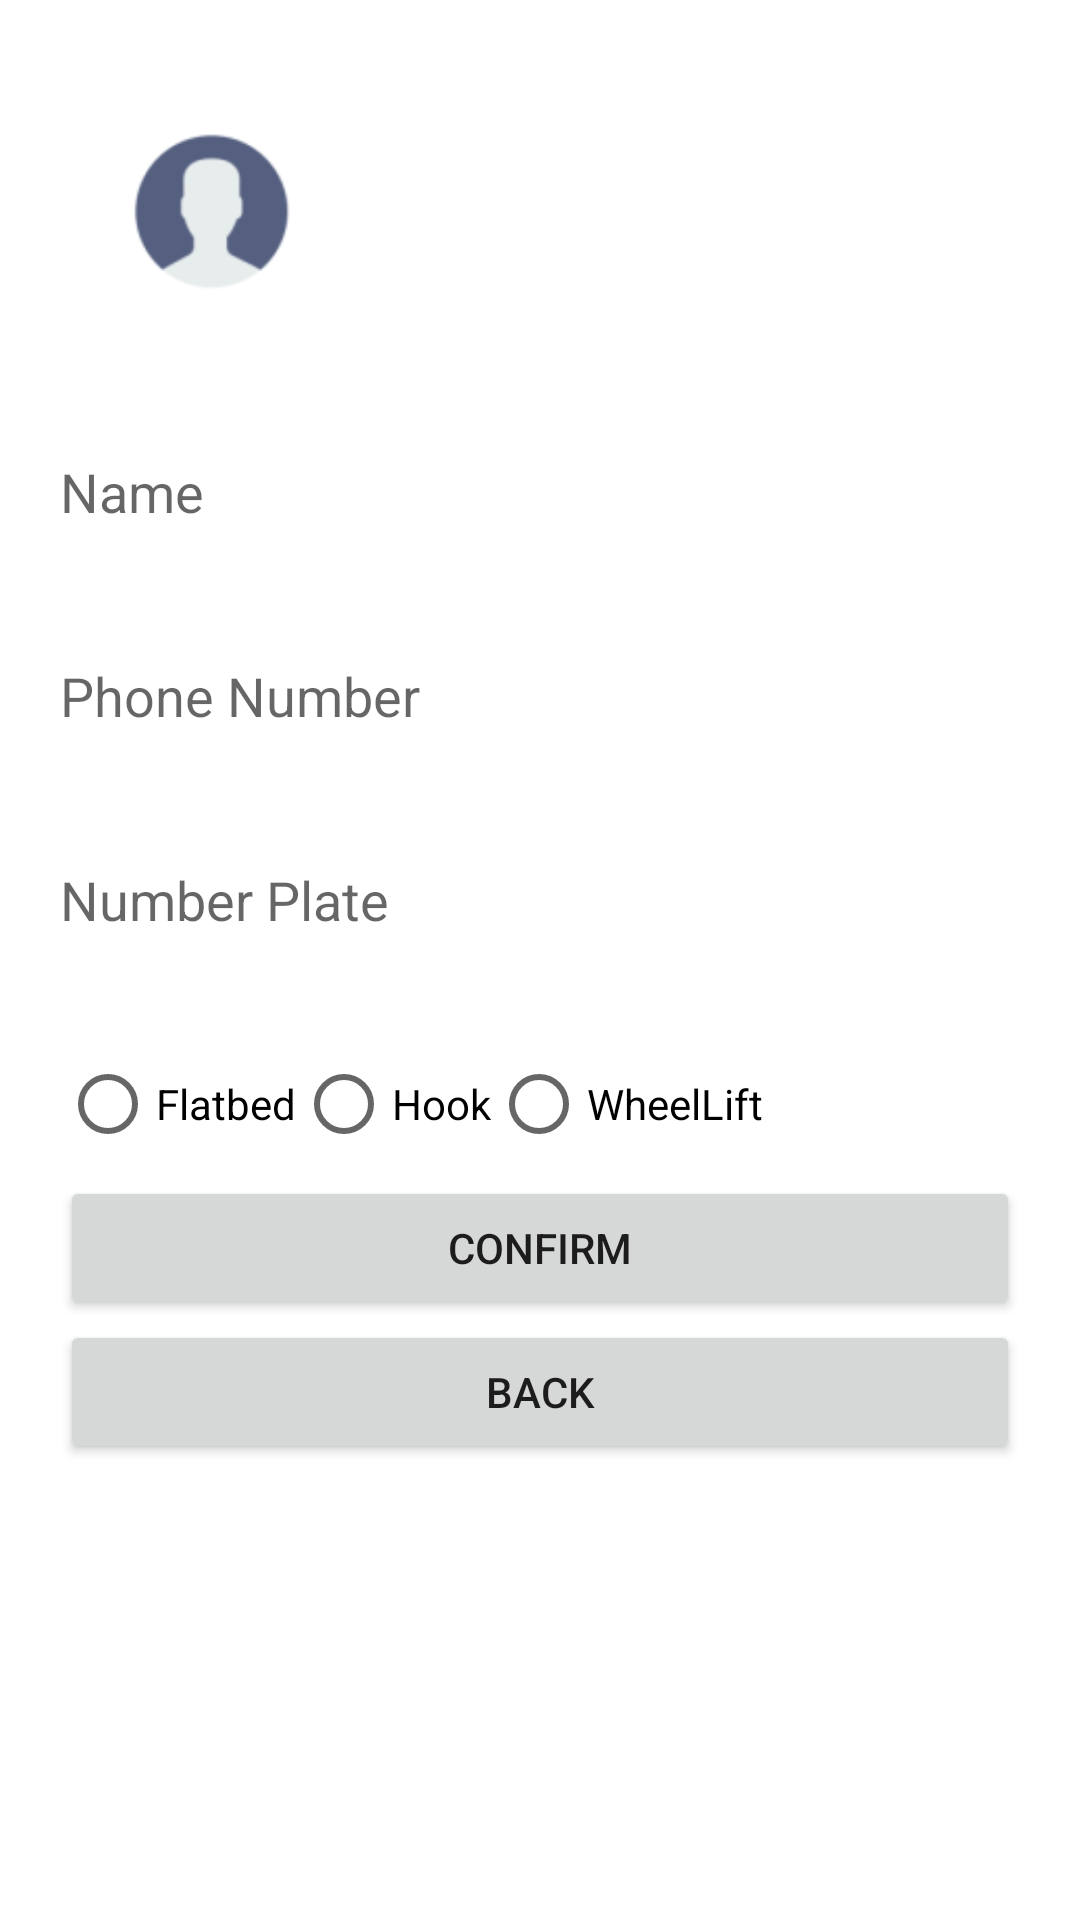

Locate icon controls on the screen. Image size 1080px x 1920px, boxes as (x1, y1, x2, y2).
user: (134, 134, 289, 271)
